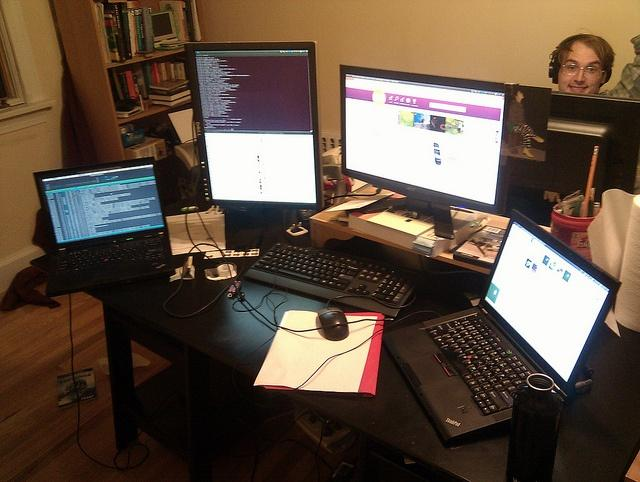AIO PC-Monitor-TV: (338, 63, 513, 218), (183, 39, 322, 211)
Rak: (90, 0, 202, 160)
